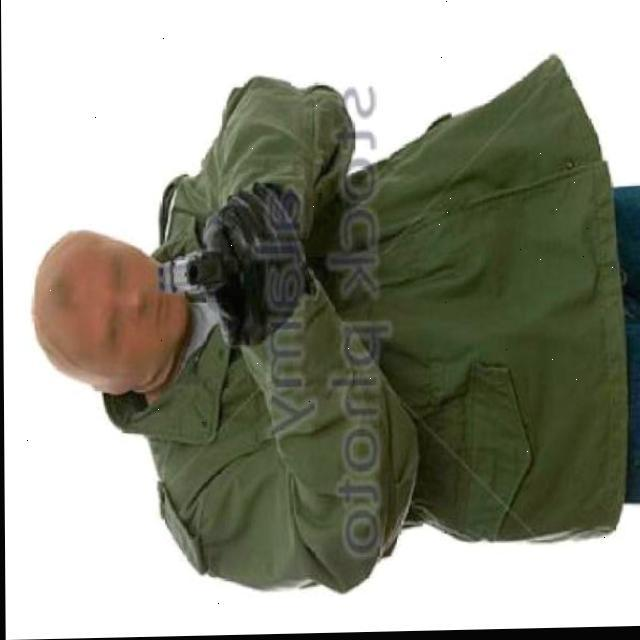gun: (154, 244, 243, 304)
